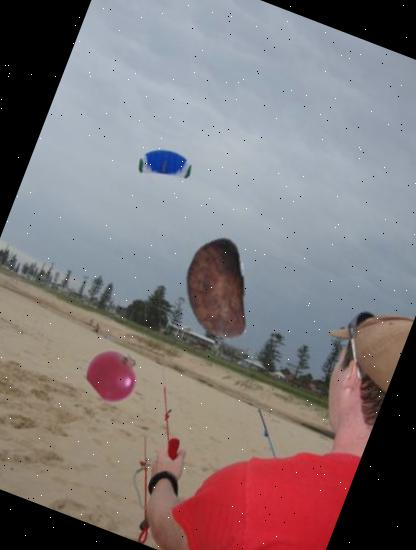Chestnut: (148, 222, 282, 356)
Redcurrant: (81, 341, 148, 408)
